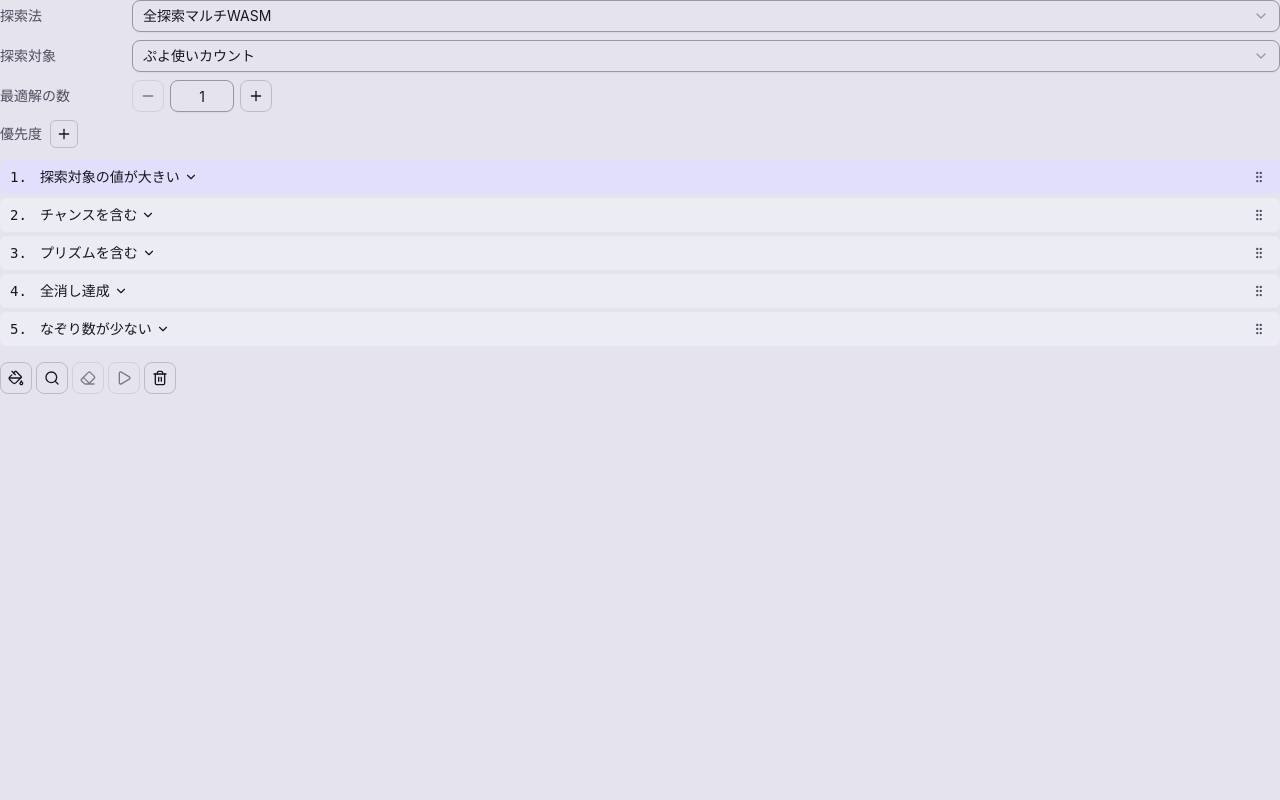
Test case: ExplorationPanel — ぷよ塗り探索 › opens the paint search dialog
The width and height of the screenshot is (1280, 800).
Click the button named "塗探索": coordinates (16, 378) [0,362,32,394]
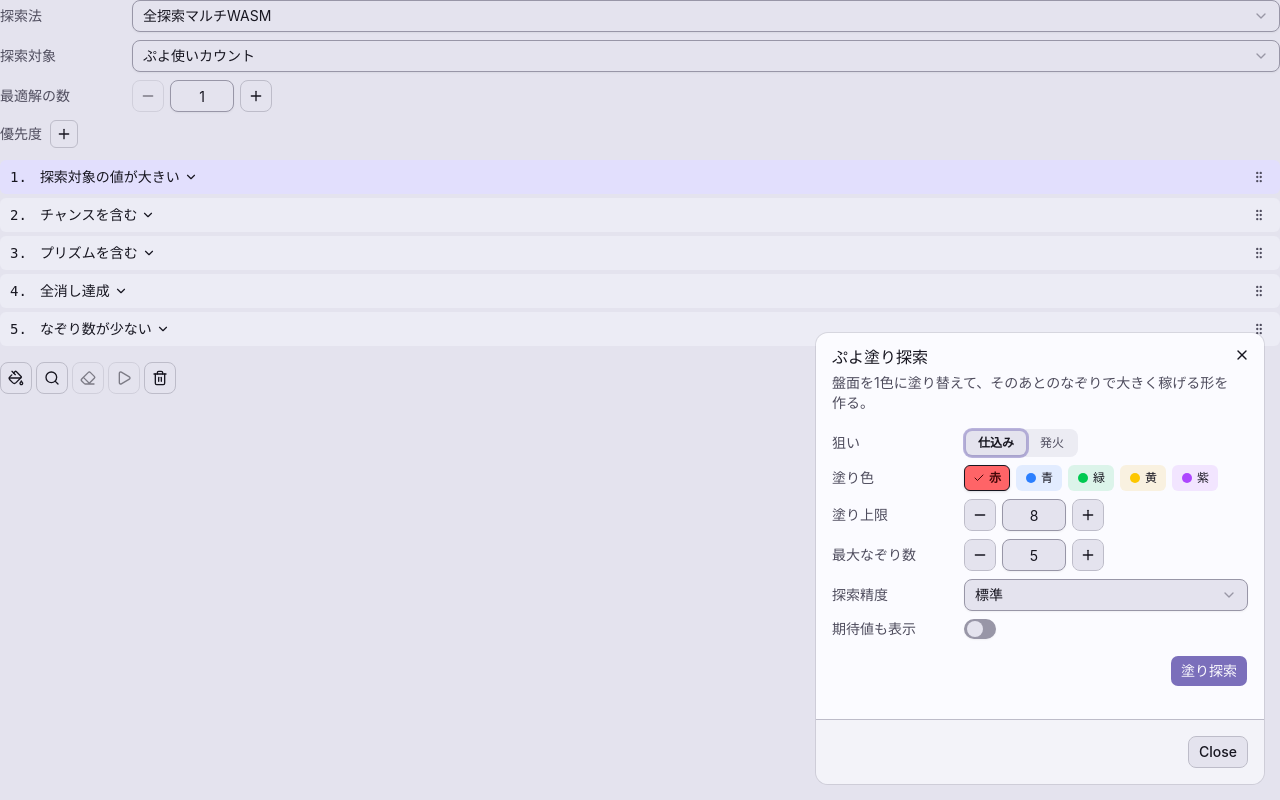
Expected: the heading "ぷよ塗り探索" is shown, [832,347,928,367]
